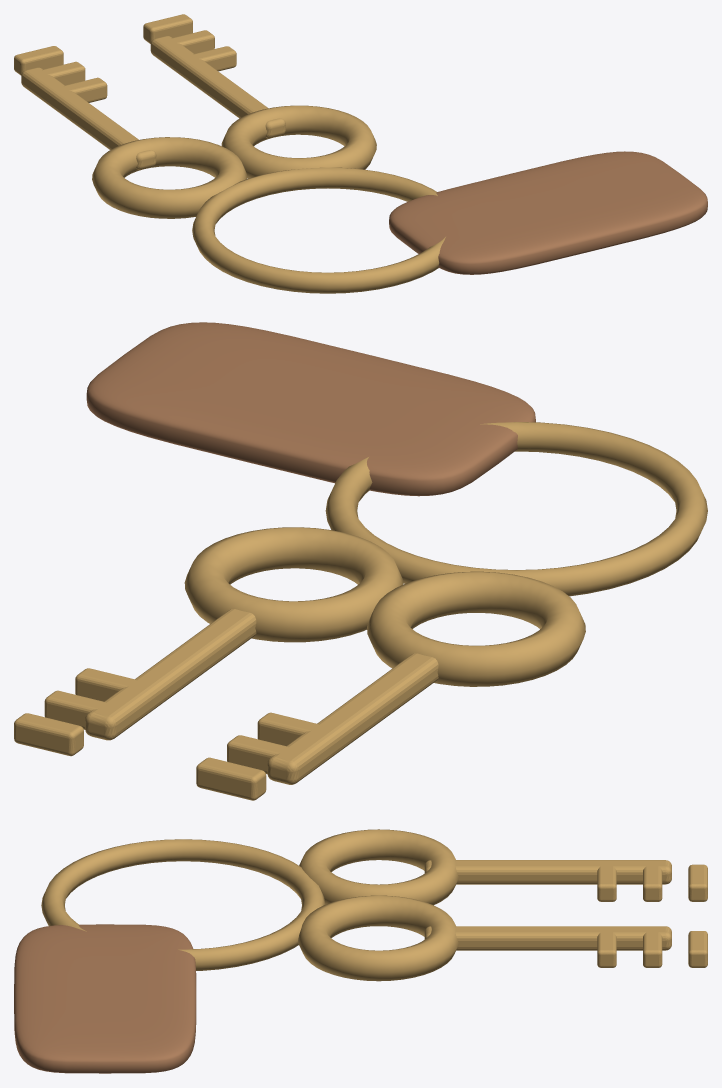
The model's file is Key_Set.glb.
The picture shows the model from 3 angles, top to bottom: view 1: azimuth 30°, elevation 25°; view 2: azimuth 150°, elevation 25°; view 3: azimuth 270°, elevation 25°; orthographic projection. The views are drawn at different scales.
Visible parts, largest first — view 1: Key_Set_Mesh; view 2: Key_Set_Mesh; view 3: Key_Set_Mesh.
Boxes of the visible parts, <box> form: Key_Set_Mesh: <box>14,14,707,293</box>; Key_Set_Mesh: <box>14,322,707,800</box>; Key_Set_Mesh: <box>14,829,707,1073</box>.
Size of the model in its own units: 0.0835 by 0.005 by 0.1065.
